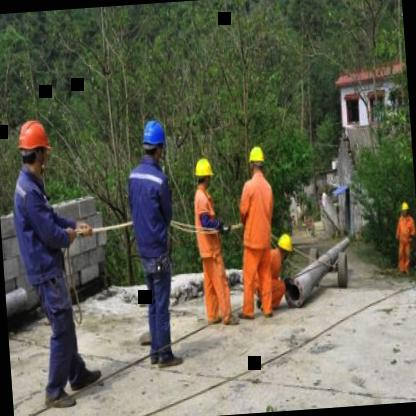helmet: (14, 116, 54, 178), (140, 116, 170, 164), (246, 142, 268, 180), (193, 154, 216, 188), (277, 228, 294, 263), (400, 198, 412, 219)
